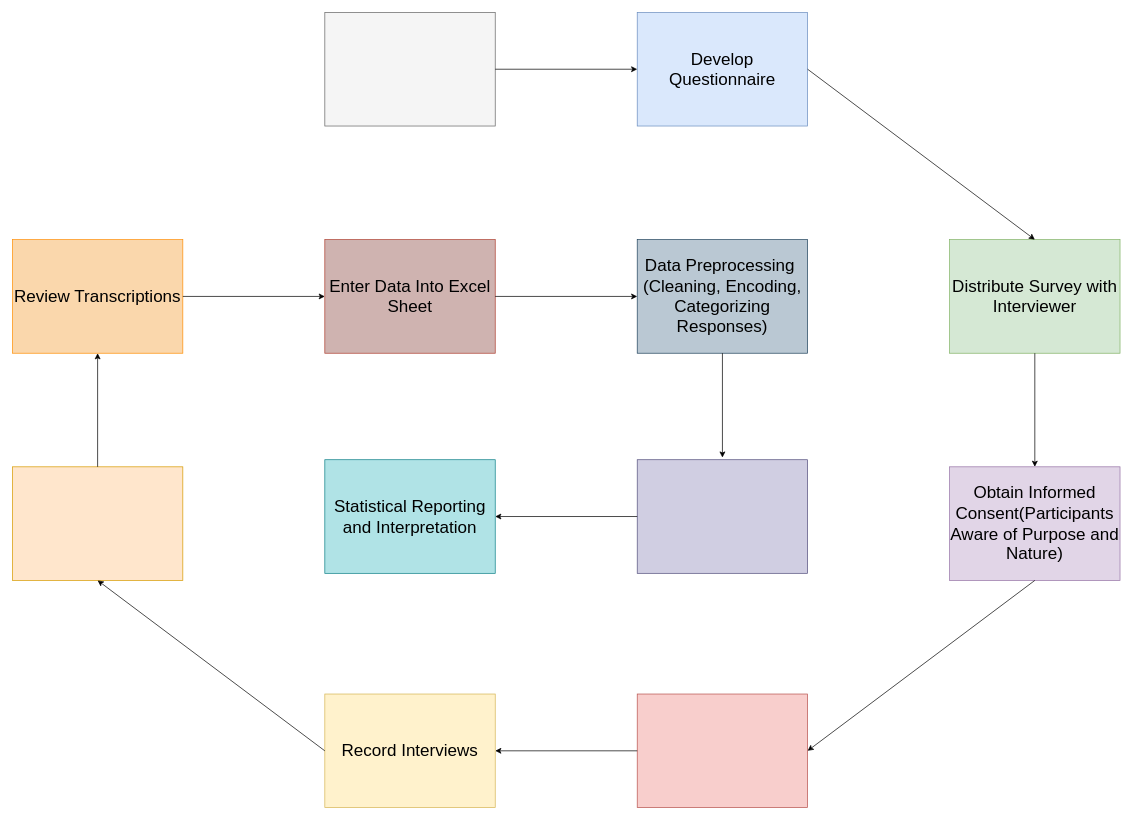
This 1132x820 diagram has some shape labels left out. The shapes that lost their labels are listed below. From the top down, each one's centre as x and y in pixels, then its label:
the point at 409,69: Identify Research Question
the point at 97,523: Transcribe Recordings
the point at 722,516: Quantitative Analysis (Cramer's V, Heatmap)
the point at 722,750: Conduct Face to Face Interviews
